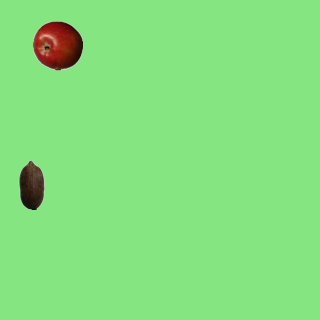Apple Braeburn: (32, 20, 82, 70)
Nut Pecan: (6, 159, 56, 209)
